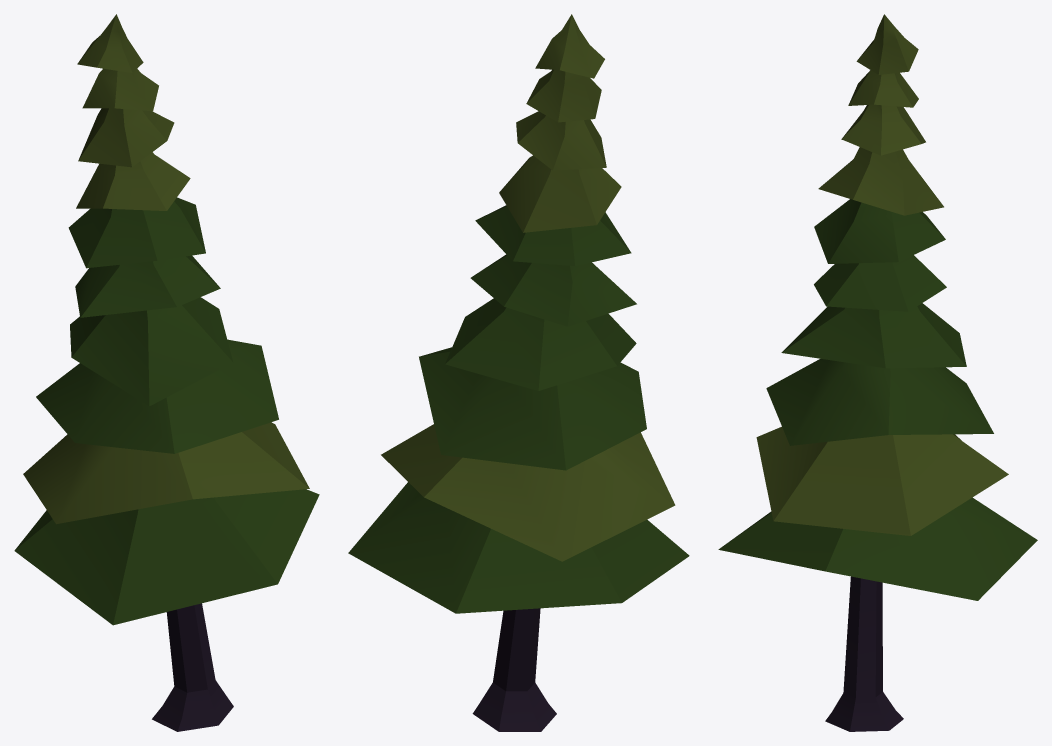
The model's file is PineTree3.FBX.
The picture shows the model from 3 angles, left to right: view 1: azimuth 30°, elevation 25°; view 2: azimuth 150°, elevation 25°; view 3: azimuth 270°, elevation 25°; orthographic projection. The views are drawn at different scales.
Visible parts, largest first — view 1: Object169; view 2: Object169; view 3: Object169.
Part boxes in pixels (<box>): Object169: <box>14,14,319,731</box>; Object169: <box>348,14,689,731</box>; Object169: <box>718,14,1037,731</box>.
Size of the model in its own units: 19.6 by 52.56 by 22.43.
